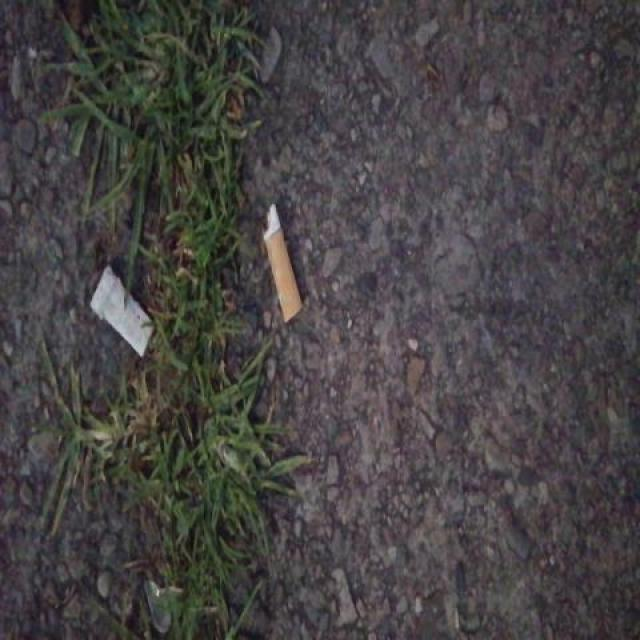non-organic waste: (88, 261, 160, 362), (260, 201, 308, 326)
